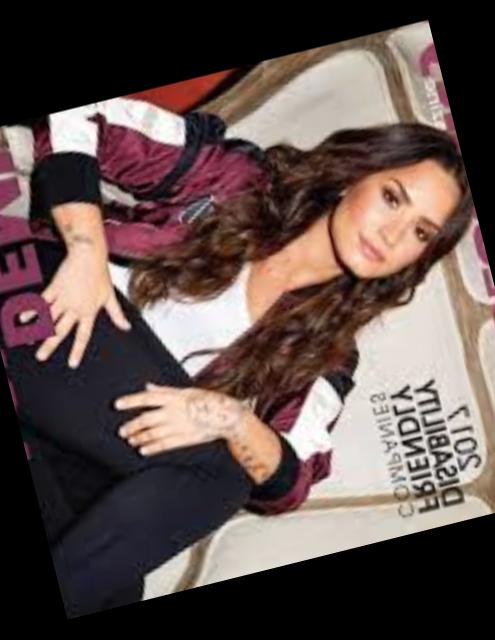cardboard paper: (0, 20, 495, 620)
